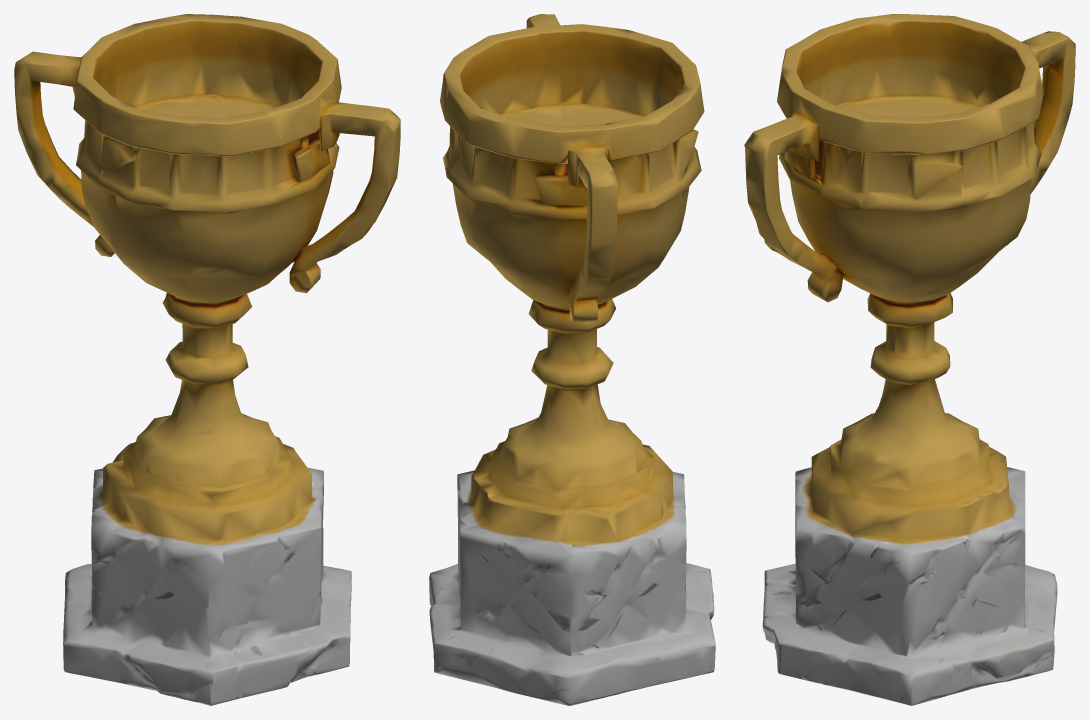
The model's file is trophy.glb.
The picture shows the model from 3 angles, left to right: view 1: azimuth 30°, elevation 25°; view 2: azimuth 150°, elevation 25°; view 3: azimuth 270°, elevation 25°; orthographic projection.
Visible parts, largest first — view 1: tripo_node_3aa307d5-1f5c-4c7d-8436-09d830524d49; view 2: tripo_node_3aa307d5-1f5c-4c7d-8436-09d830524d49; view 3: tripo_node_3aa307d5-1f5c-4c7d-8436-09d830524d49.
Part boxes in pixels (bbox=[...]): tripo_node_3aa307d5-1f5c-4c7d-8436-09d830524d49: bbox=[14, 14, 400, 705]; tripo_node_3aa307d5-1f5c-4c7d-8436-09d830524d49: bbox=[429, 14, 715, 705]; tripo_node_3aa307d5-1f5c-4c7d-8436-09d830524d49: bbox=[744, 14, 1075, 705].
Size of the model in its own units: 0.5319 by 1 by 0.5279.
Materials: 1 (1 with a texture image).
